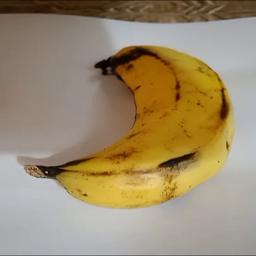Banana Semifresh: (23, 40, 237, 209)
